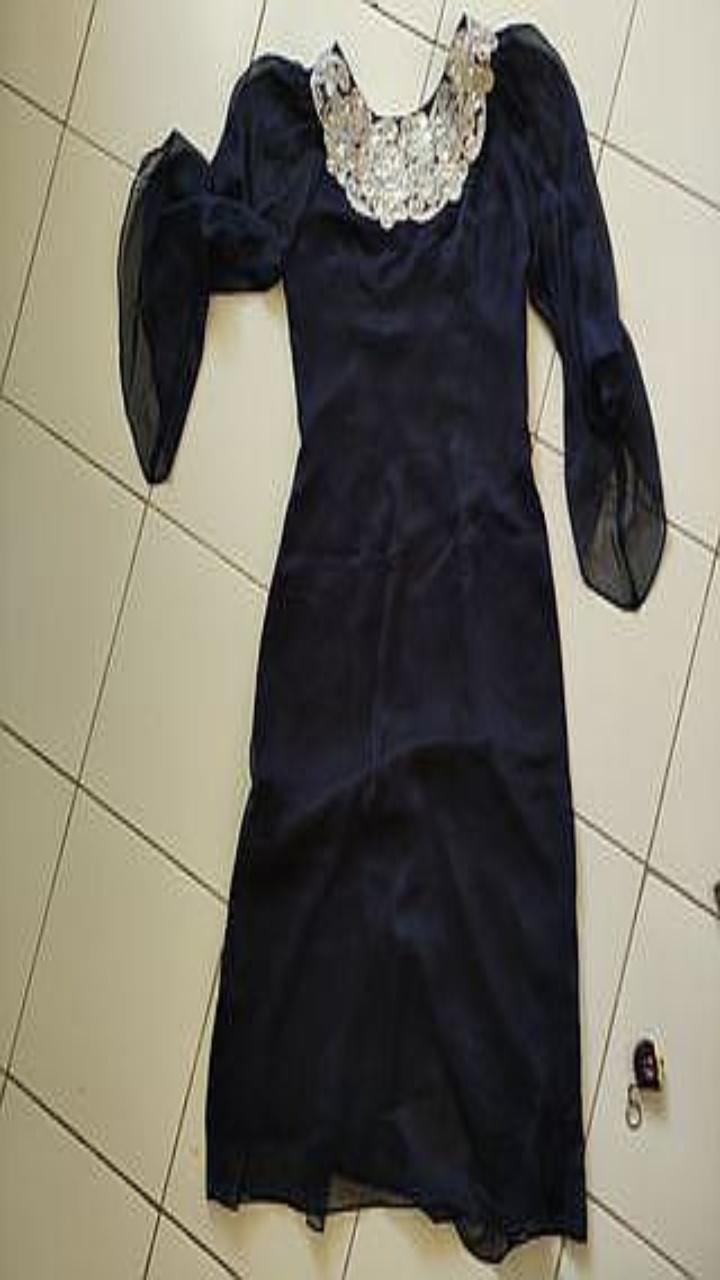Dresses: (118, 13, 664, 1259)
